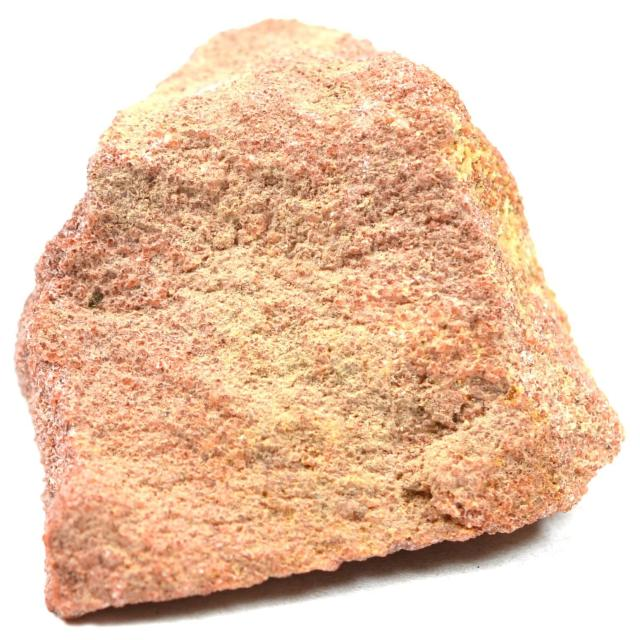Sedimentary: (10, 13, 625, 633)
